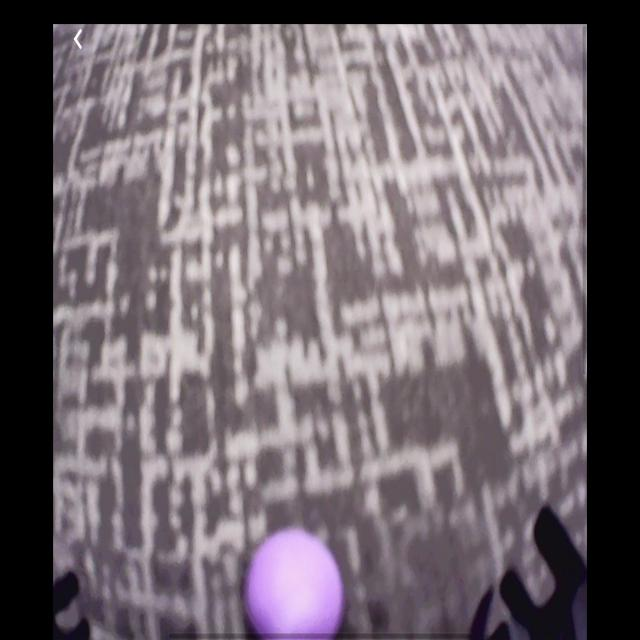ball: (243, 528, 346, 640)
